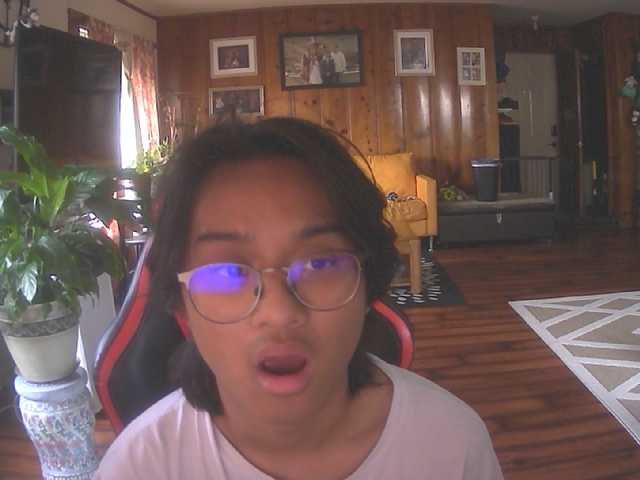fear: (173, 131, 381, 434)
